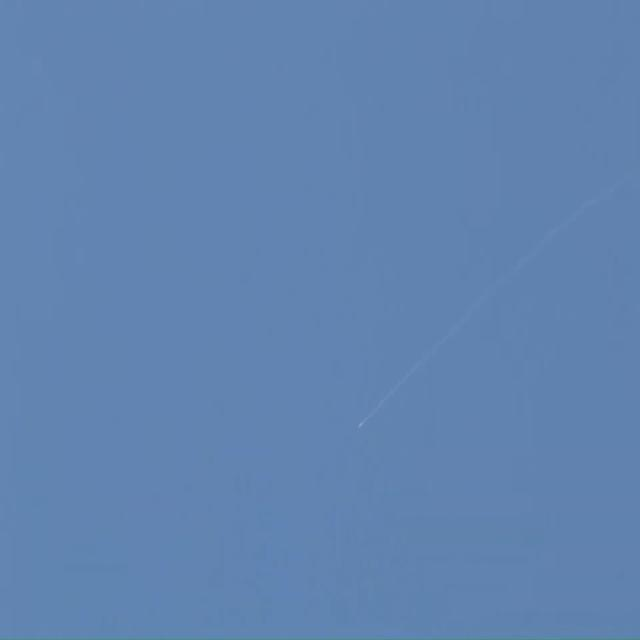Rocket: (359, 424, 361, 426)
